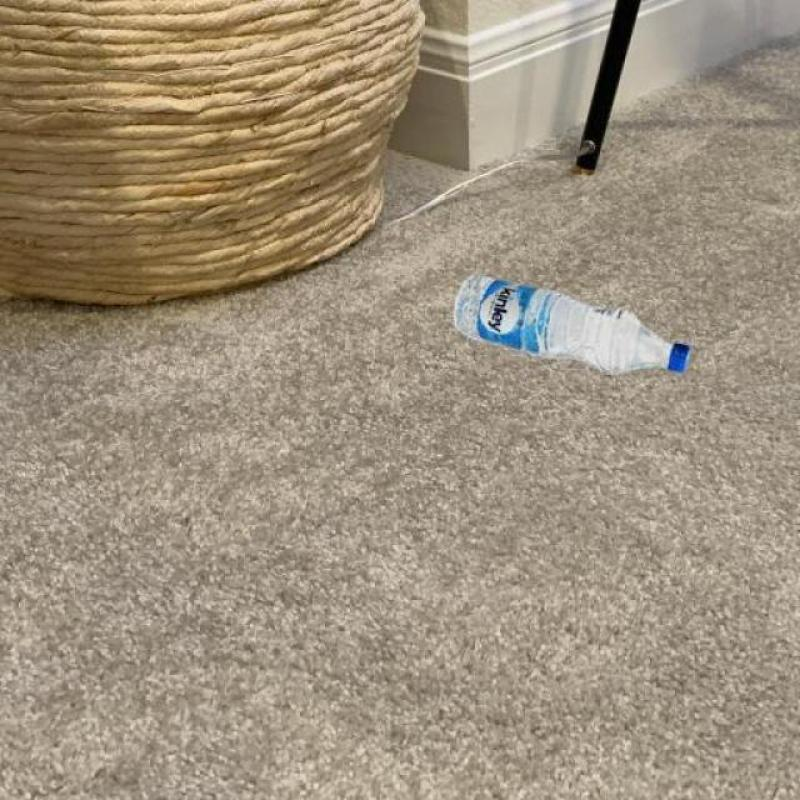botella: (452, 273, 690, 379)
